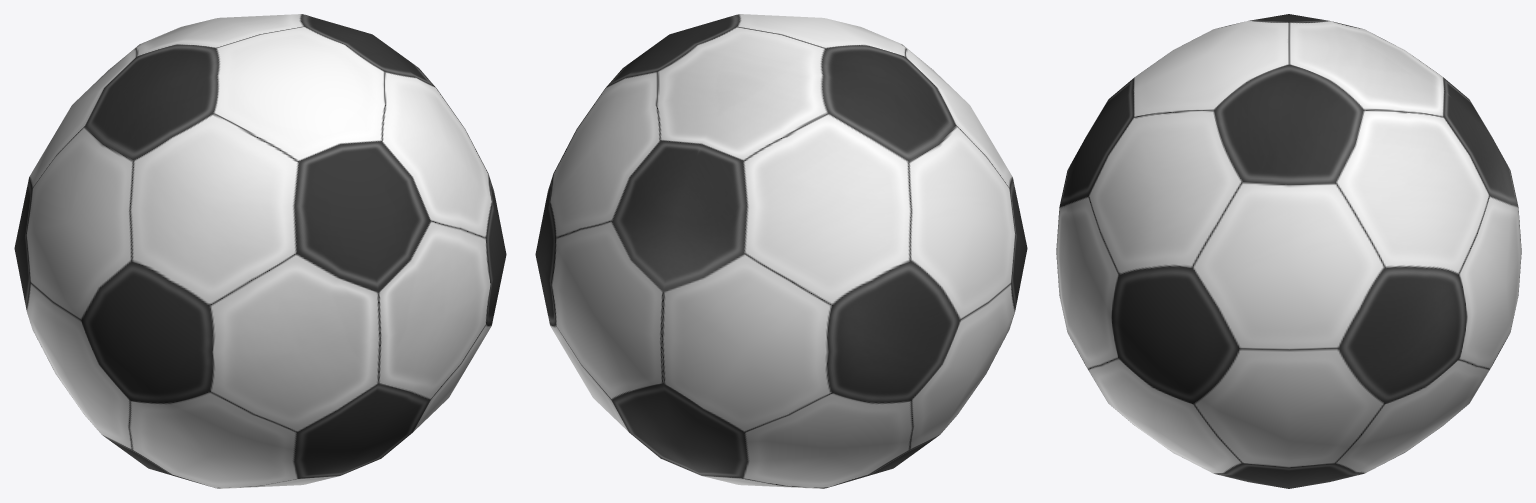
The model's file is football.FBX.
The picture shows the model from 3 angles, left to right: view 1: azimuth 30°, elevation 25°; view 2: azimuth 150°, elevation 25°; view 3: azimuth 270°, elevation 25°; orthographic projection. The views are drawn at different scales.
Visible parts, largest first — view 1: football; view 2: football; view 3: football.
Part boxes in pixels (box(x1,y1,x2,y2)): football: box(14, 14, 506, 488); football: box(535, 14, 1027, 488); football: box(1056, 14, 1521, 488).
Bounding box in the file's own units: 36.64 × 36.64 × 36.64.
